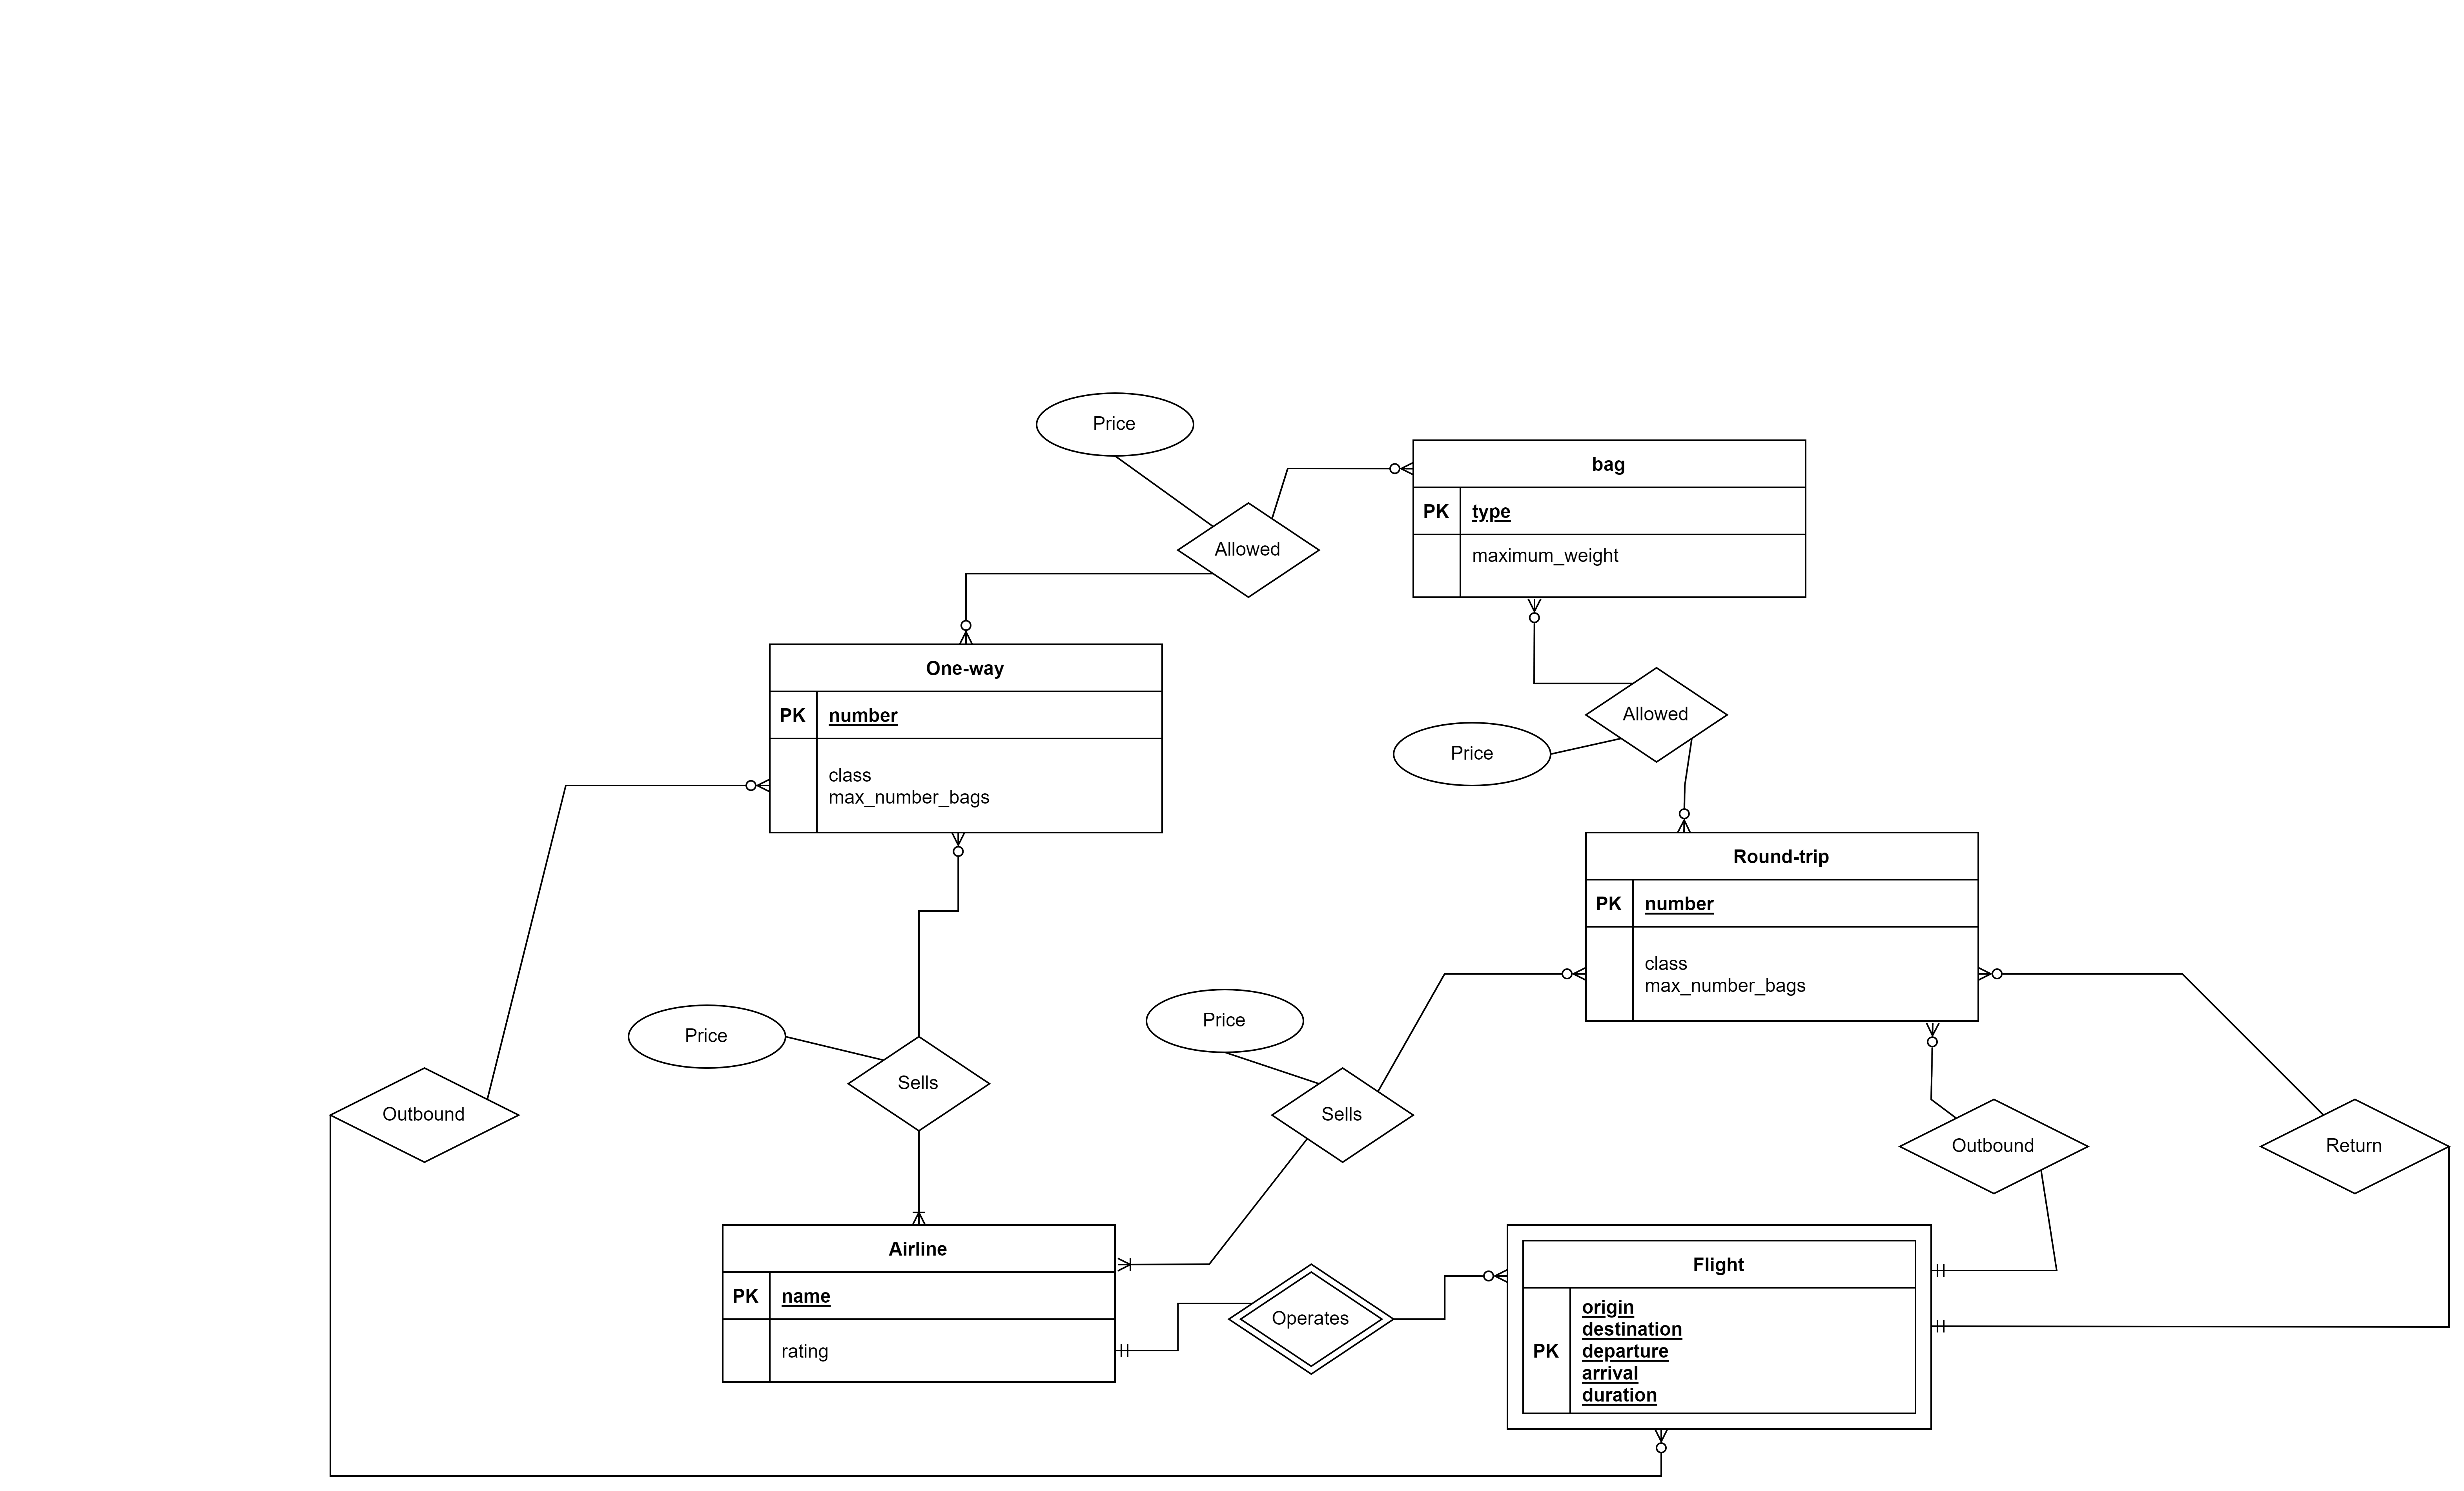entity: (1588, 831, 1978, 1019), (771, 644, 1160, 831), (1412, 438, 1806, 599), (722, 1220, 1112, 1378)
ident_rel: (1227, 1259, 1390, 1378)
many: (938, 826, 986, 866), (1642, 1426, 1681, 1465), (1973, 958, 2015, 993), (1918, 1017, 1955, 1056), (734, 764, 769, 803), (1475, 1257, 1508, 1292), (1378, 454, 1413, 486), (903, 1197, 940, 1227), (1554, 959, 1588, 991), (950, 614, 986, 644), (1114, 1250, 1146, 1282), (1668, 799, 1698, 833), (1519, 597, 1549, 628)
one: (1929, 1310, 1959, 1343), (1114, 1338, 1144, 1368), (1931, 1255, 1962, 1282)
rel: (333, 1065, 524, 1169), (2260, 1097, 2453, 1195), (1901, 1097, 2091, 1194), (1269, 1069, 1417, 1164), (1176, 503, 1325, 597), (852, 1035, 991, 1128), (1588, 669, 1727, 760)
rel_attr: (1392, 723, 1549, 790), (1142, 989, 1306, 1053), (1035, 394, 1193, 456), (630, 1007, 783, 1069)
weak_entity: (1505, 1223, 1931, 1424)
